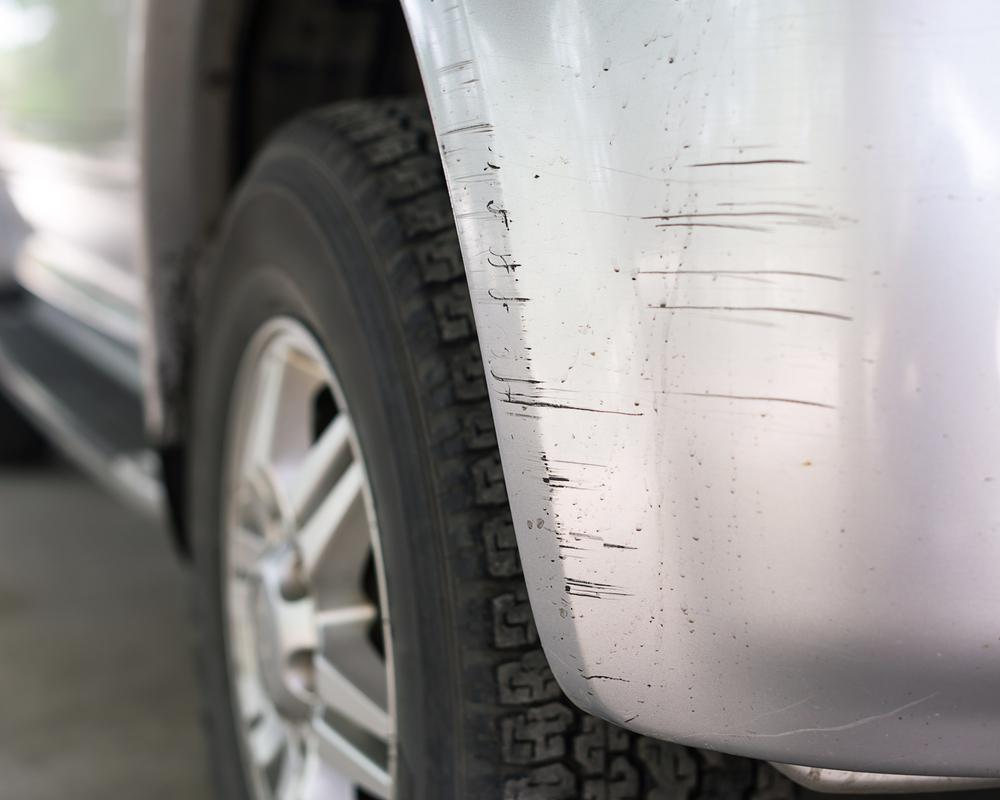scratch: (445, 0, 860, 723)
